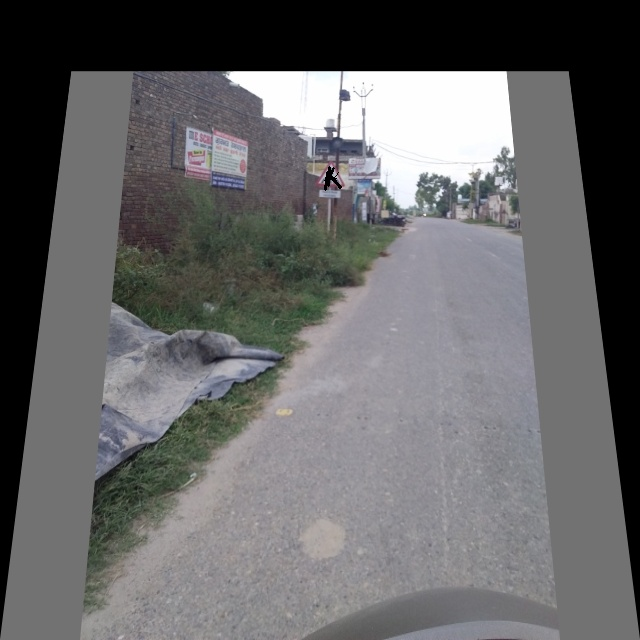Pedestrian_Crossing: (316, 162, 342, 191)
